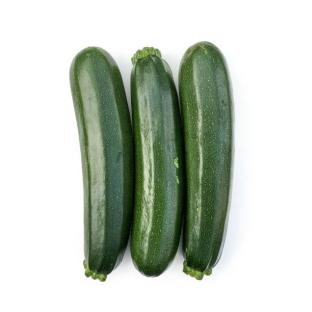Zucchini: (70, 47, 134, 281), (179, 42, 233, 279), (131, 48, 184, 276)
